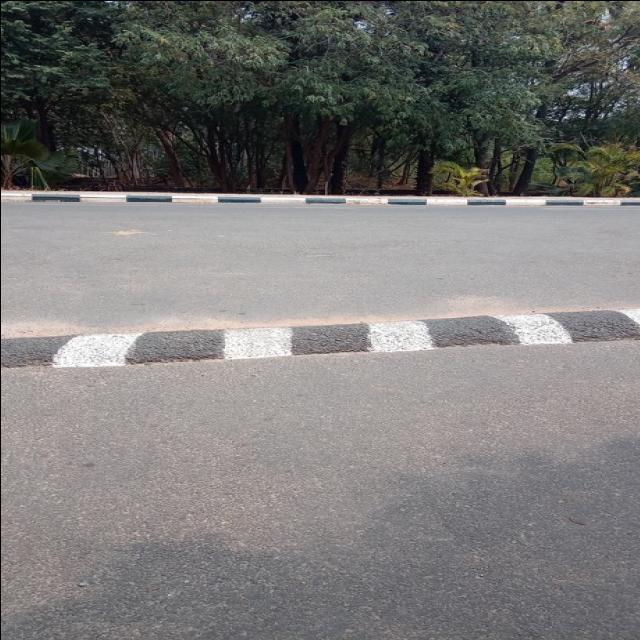Marked Bump: (25, 308, 633, 367)
